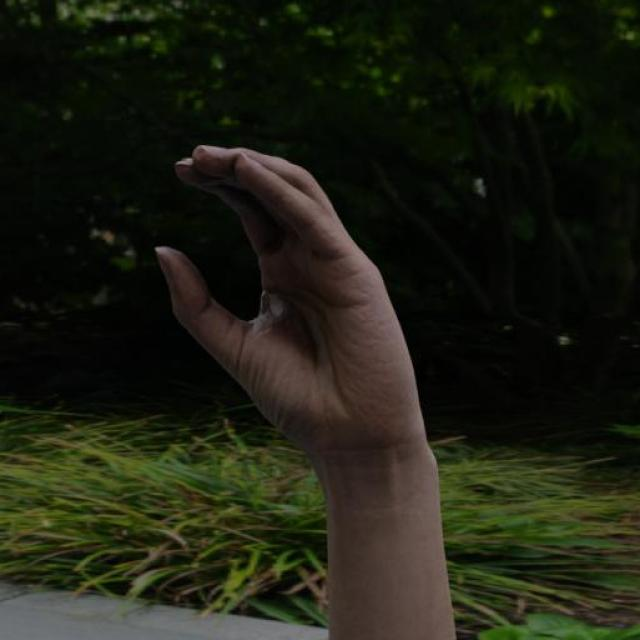C: (149, 139, 449, 462)
